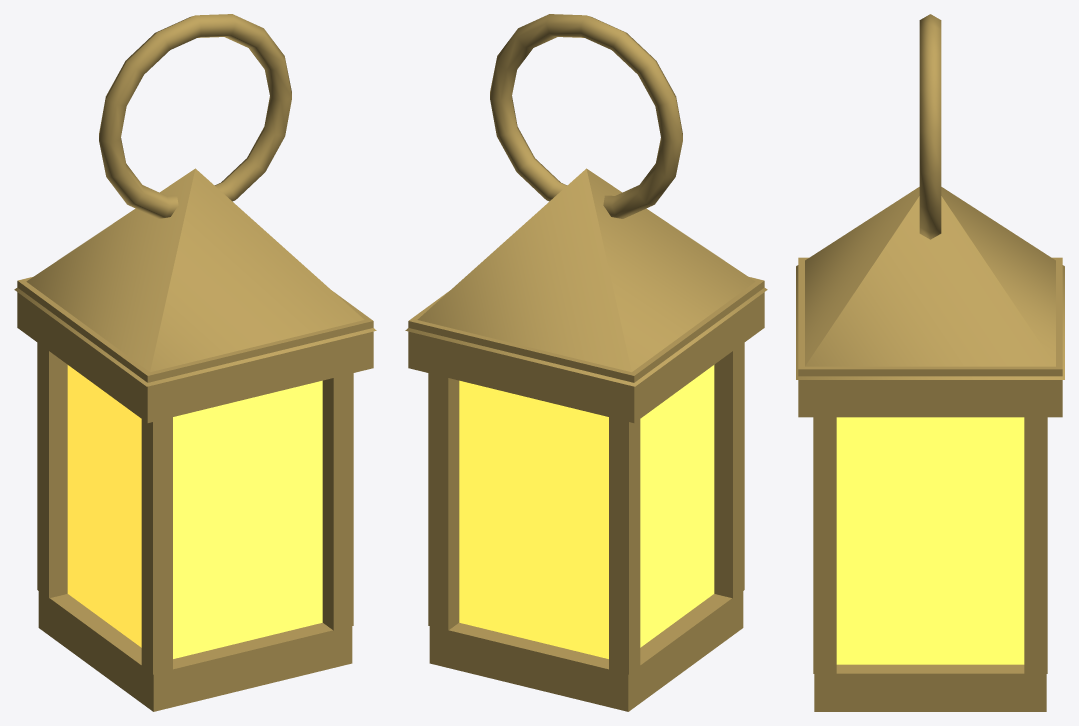
Rendered from lantern.glb.
3 renders of one model, left to right at view 1: azimuth 30°, elevation 25°; view 2: azimuth 150°, elevation 25°; view 3: azimuth 270°, elevation 25°, orthographic.
Visible parts, largest first — view 1: Brass watch lantern; view 2: Brass watch lantern; view 3: Brass watch lantern.
Part boxes in pixels (left/top/right/bottom): Brass watch lantern: left=14, top=14, right=376, bottom=711; Brass watch lantern: left=405, top=14, right=767, bottom=711; Brass watch lantern: left=796, top=14, right=1064, bottom=711.
Bounding box in the file's own units: 0.2546 × 0.667 × 0.2546.
